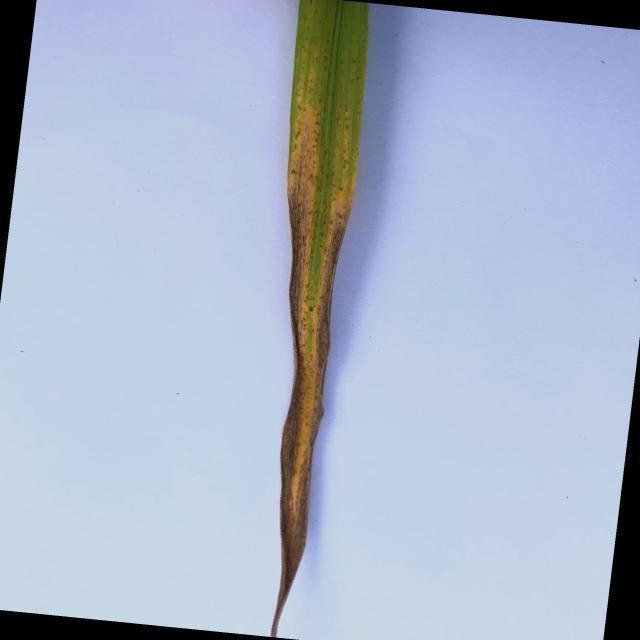Rice Tungro: (268, 51, 366, 632)
